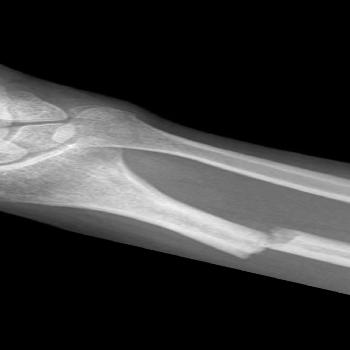Fracture: (232, 222, 308, 260)
